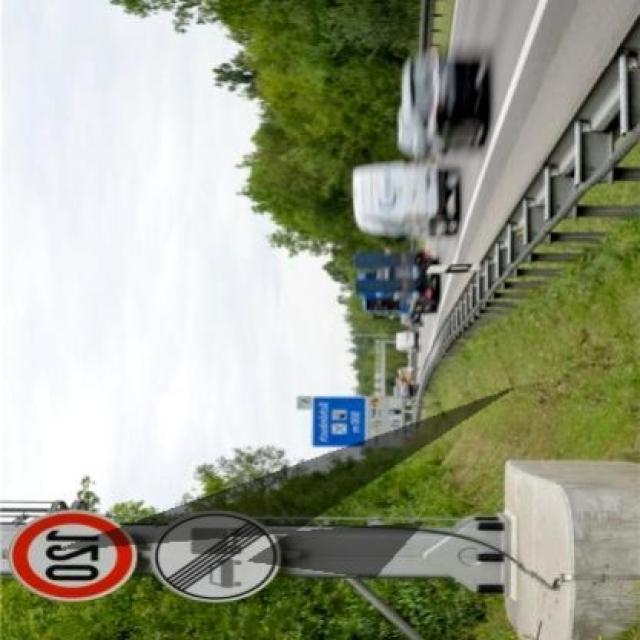forb_speed_over_120: (13, 519, 134, 603)
